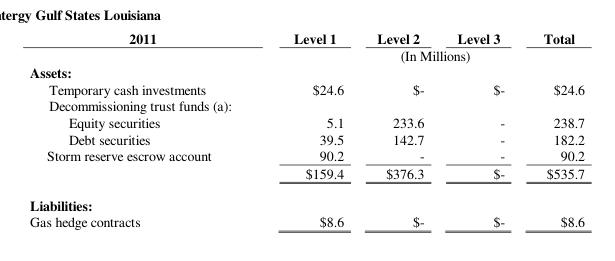table: (29, 28, 584, 230)
table column: (29, 28, 251, 230), (251, 28, 359, 230), (440, 28, 523, 230), (359, 28, 440, 230), (523, 28, 584, 230)
table column header: (29, 28, 584, 63)
table projected row header: (29, 188, 584, 213), (29, 63, 584, 80), (29, 96, 584, 113)
table row: (29, 163, 584, 188), (29, 188, 584, 213), (29, 28, 584, 46), (29, 46, 584, 63), (29, 63, 584, 80), (29, 96, 584, 113), (29, 129, 584, 146), (29, 146, 584, 163), (29, 213, 584, 230), (29, 80, 584, 96), (29, 113, 584, 129)
table spanning cell: (29, 28, 251, 63), (251, 46, 584, 63)
